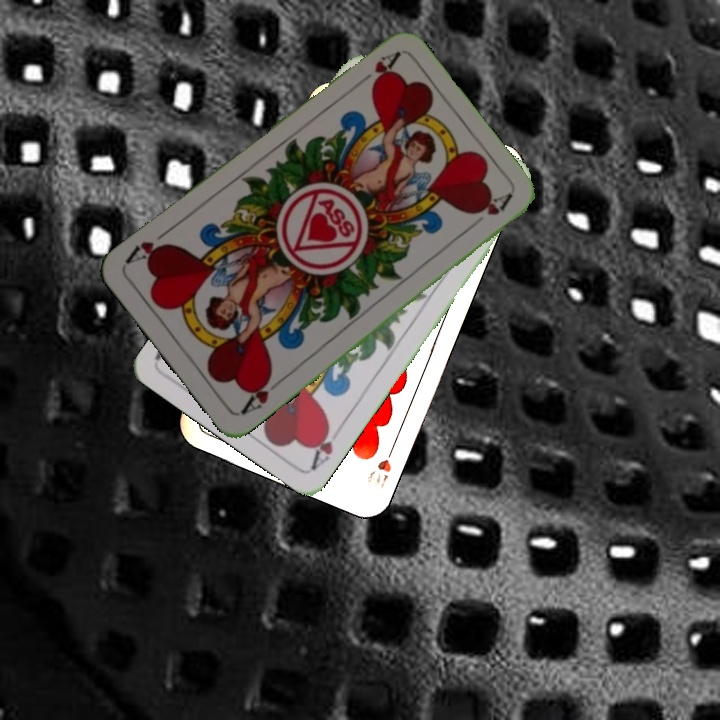H10: (363, 439, 398, 491)
HA: (236, 370, 286, 417), (351, 48, 402, 91), (307, 418, 336, 472)
